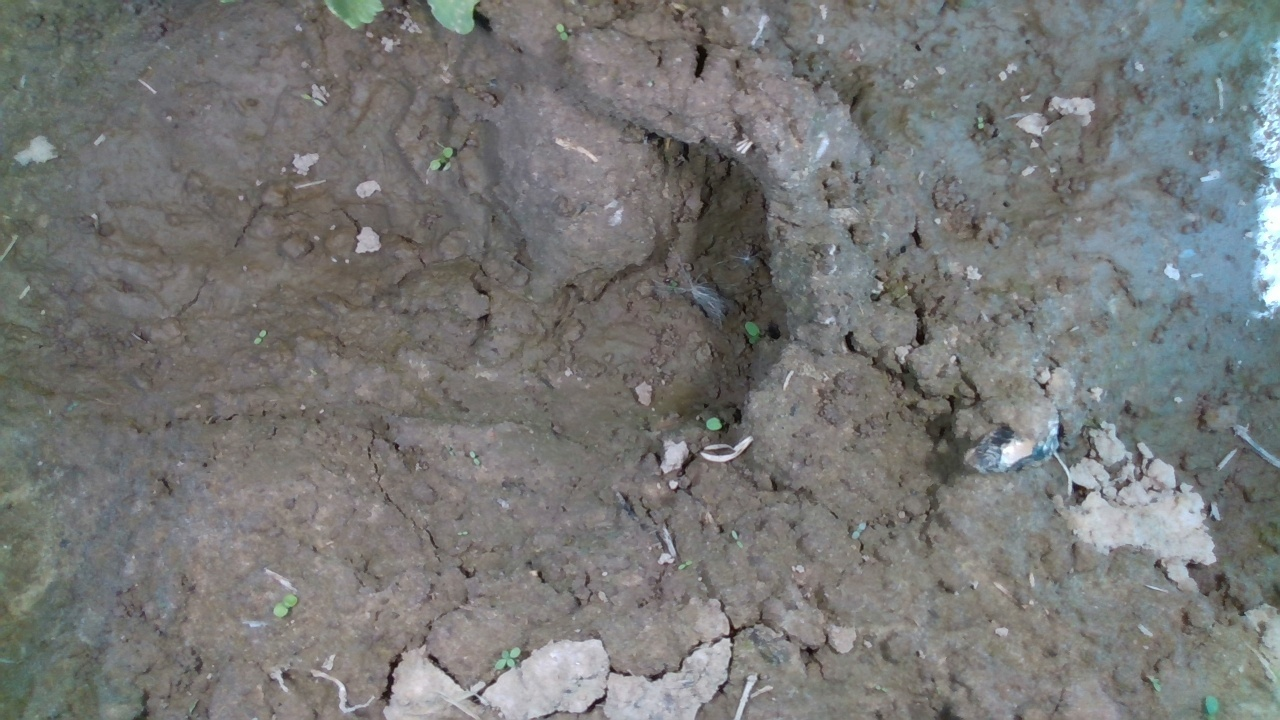weed: (245, 325, 279, 356), (428, 145, 463, 174), (268, 592, 299, 617)
